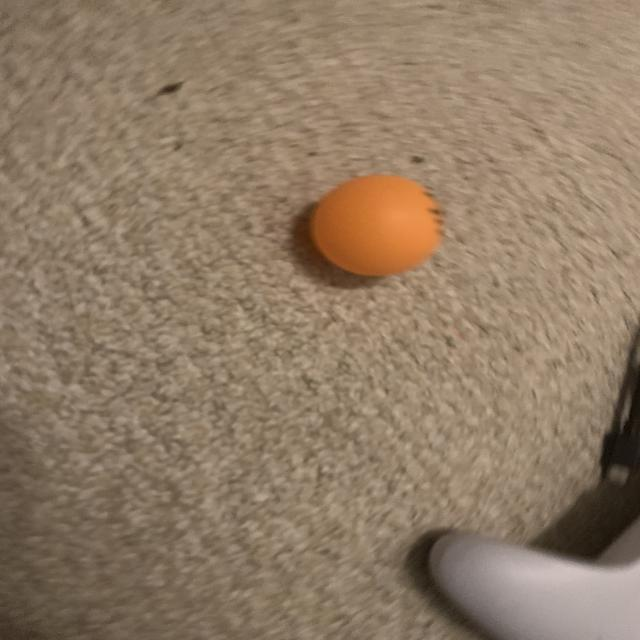ping-pong-ball: (302, 166, 452, 286)
